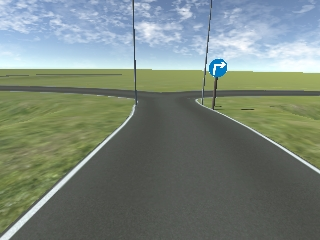right: (209, 59, 227, 77)
